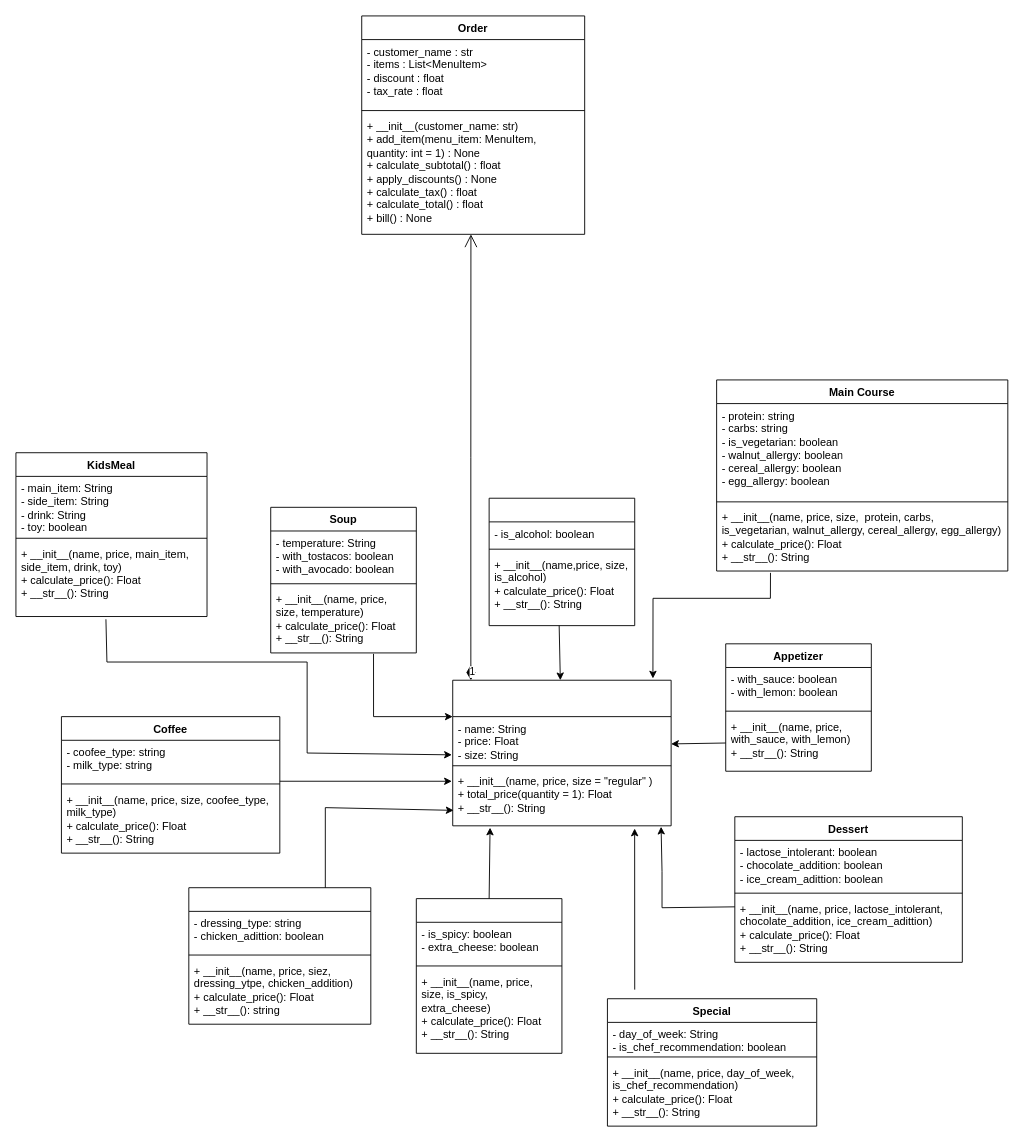
The diagram is 1024 pixels wide and 1145 high, and some of its shapes have lost their labels. Each missing label, with the box of its shape:
Beverage: (488, 497, 635, 626)
Menu Item Clase Padre: (452, 679, 671, 826)
Salad: (188, 887, 371, 1024)
SideDish: (415, 898, 562, 1053)
